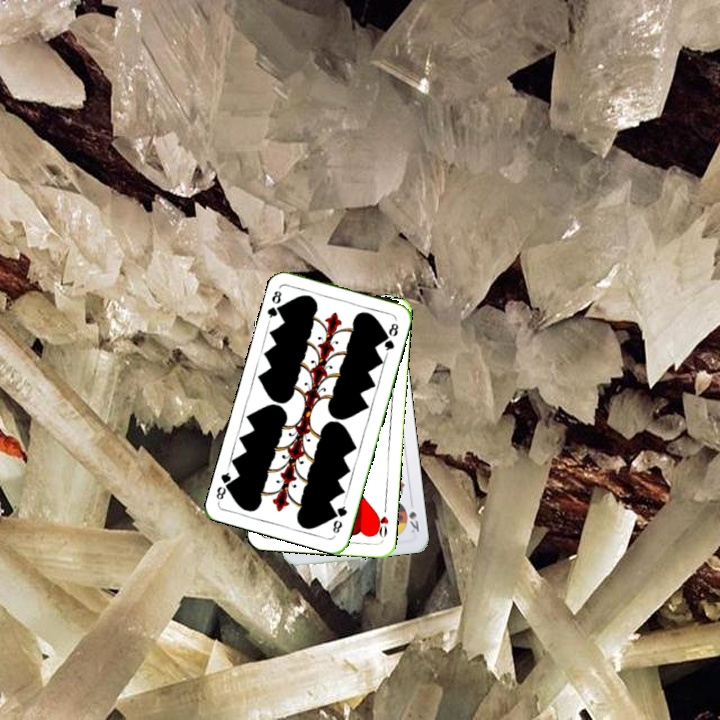G8: (328, 498, 350, 536), (263, 287, 286, 323)
HO: (372, 501, 391, 542)
SK: (405, 507, 422, 536)
